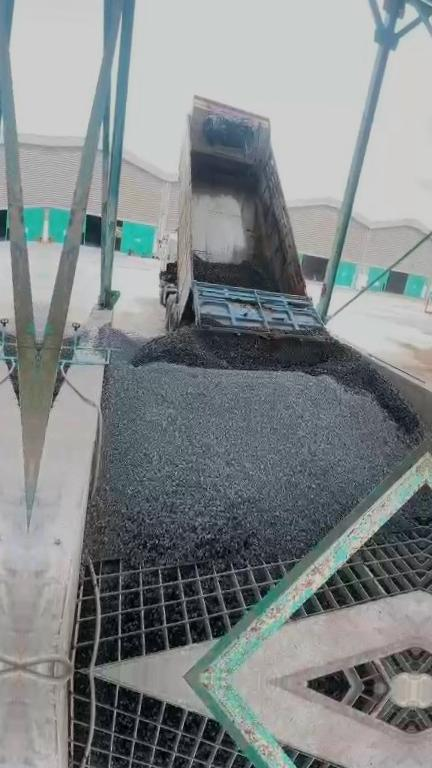gravel: (86, 290, 428, 569), (193, 211, 279, 291), (387, 486, 425, 526)
